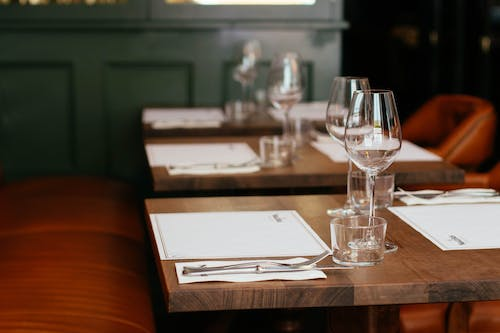knife: (181, 263, 355, 278)
